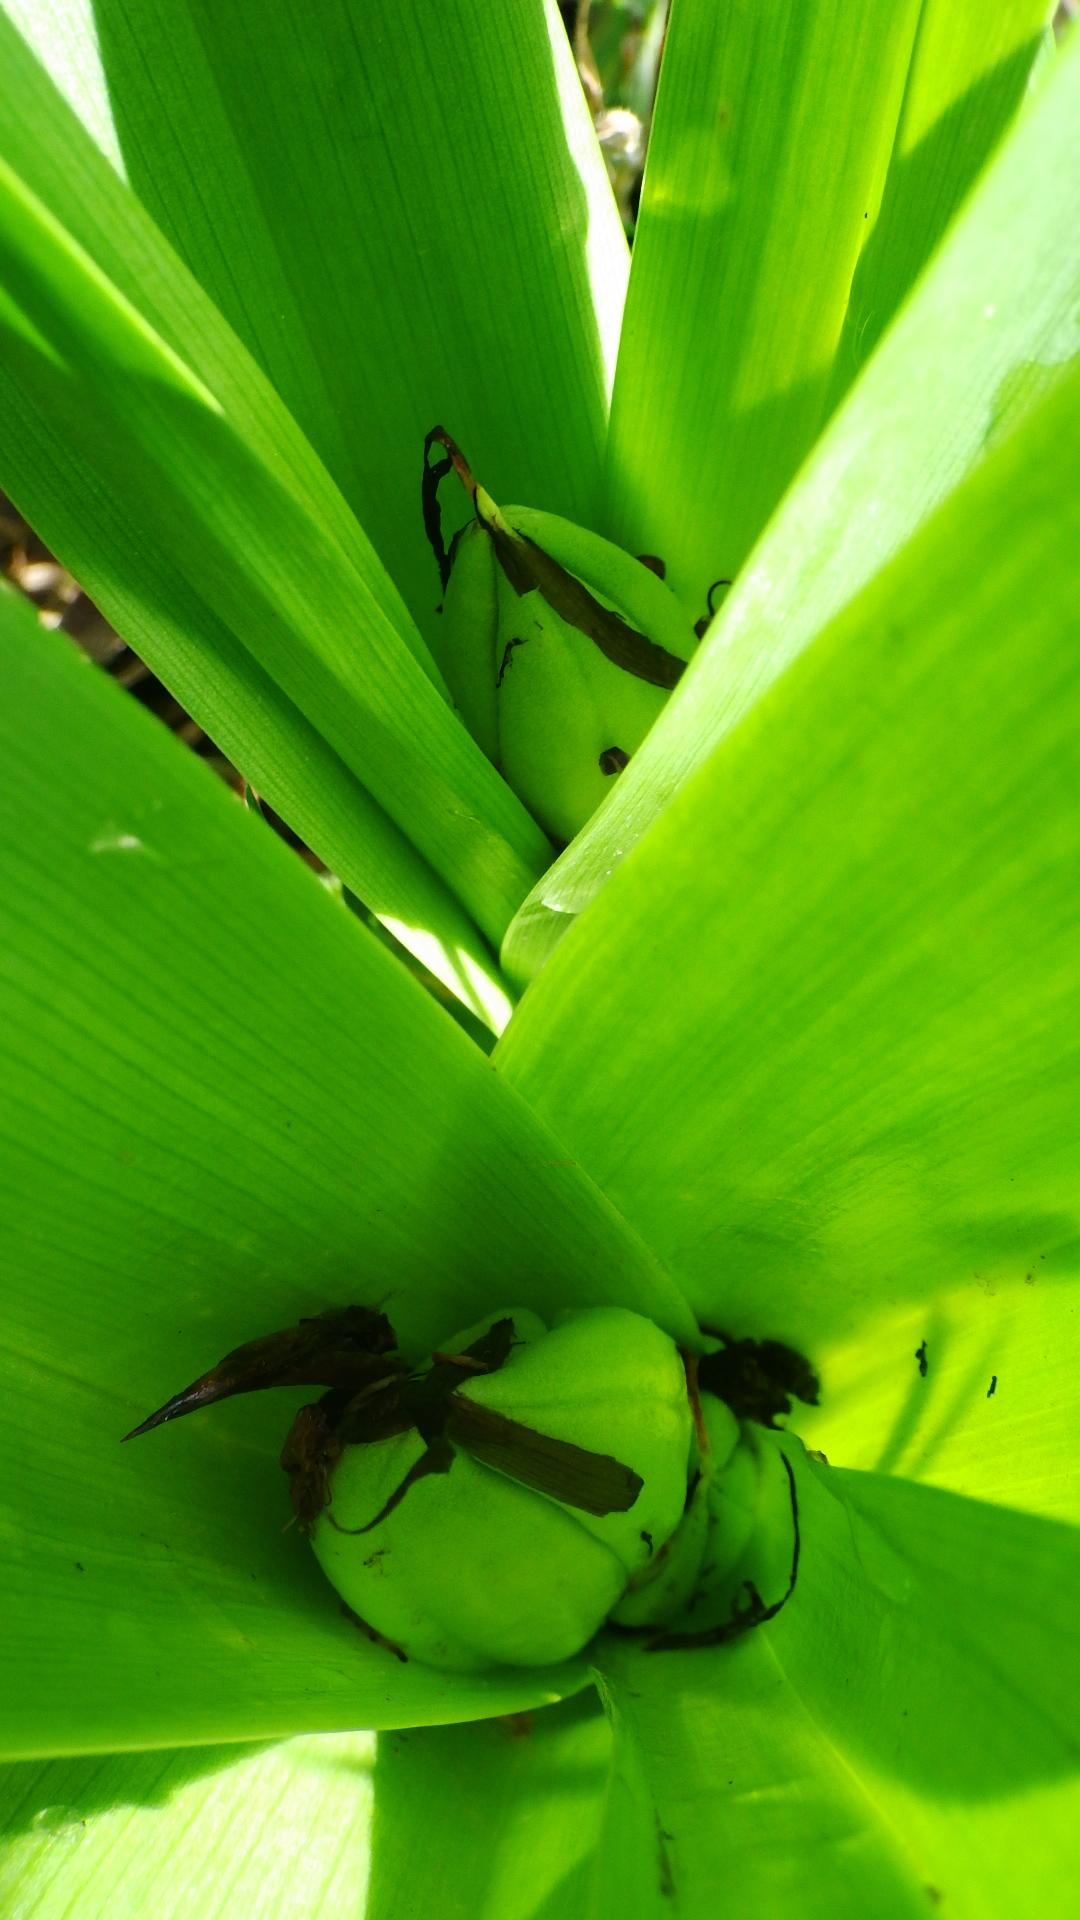Colchicum autumnale L: (3, 8, 1080, 1920)
